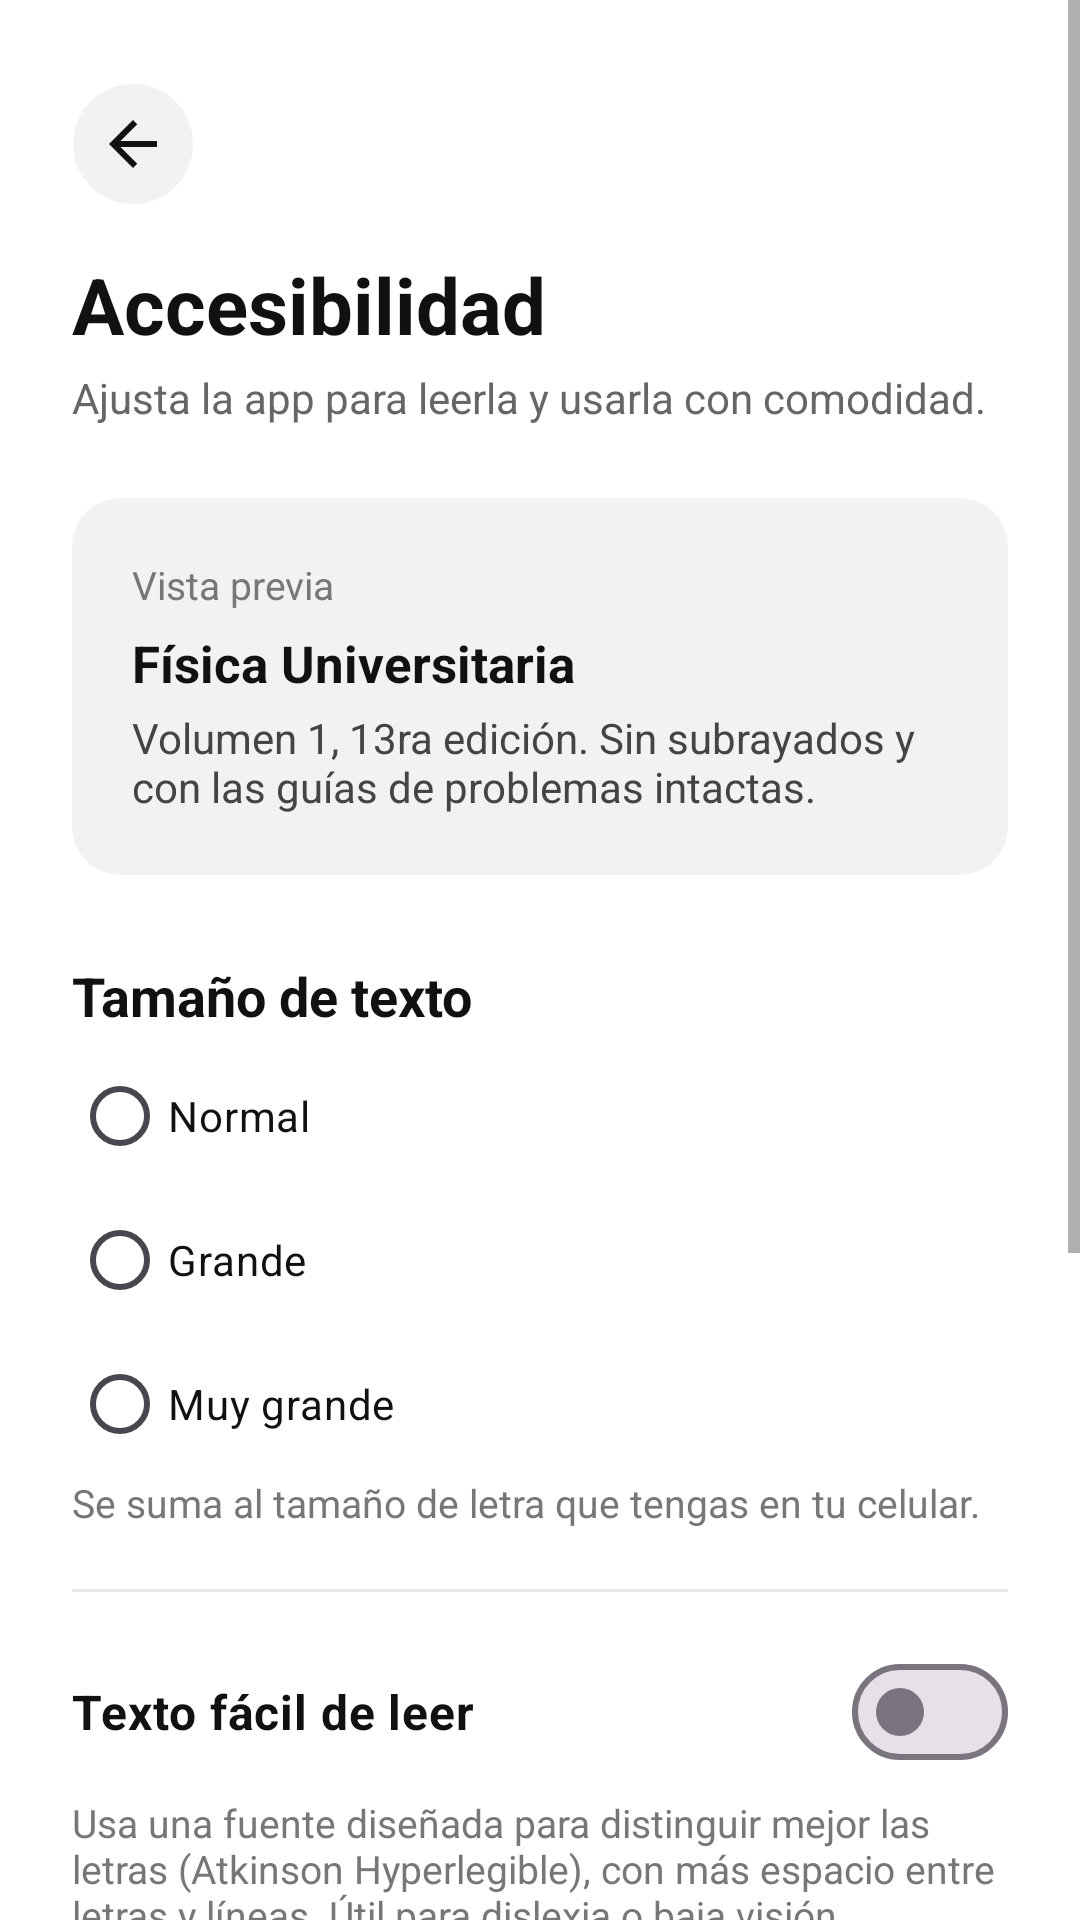

Where to tap for icons on this 1080 × 1920 app screen, as (x,y):
Regresar: (133,144)
